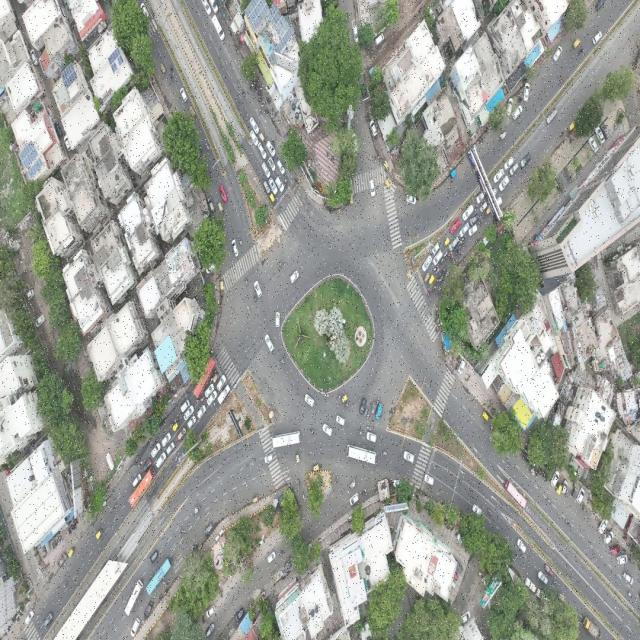3W: (555, 589, 567, 607), (565, 119, 576, 138), (572, 34, 583, 53), (66, 541, 76, 559), (187, 105, 199, 120), (191, 502, 202, 518), (95, 526, 105, 543), (157, 59, 167, 76), (292, 450, 302, 466), (250, 492, 260, 507), (383, 177, 392, 193), (449, 167, 459, 181), (218, 278, 226, 294), (258, 129, 266, 145), (268, 193, 277, 207), (480, 409, 489, 423), (383, 158, 391, 173), (218, 200, 225, 217), (423, 269, 430, 286), (341, 392, 350, 404), (427, 273, 435, 286), (312, 463, 321, 474), (569, 489, 577, 501), (173, 422, 182, 432), (444, 238, 451, 250), (556, 482, 562, 496), (210, 375, 219, 384), (485, 206, 492, 217)
Bus: (192, 349, 219, 403), (144, 554, 174, 598), (127, 472, 157, 508), (501, 477, 530, 513), (270, 427, 305, 455), (346, 440, 379, 469), (123, 579, 146, 618)
Cars: (254, 279, 265, 305), (546, 106, 559, 128), (131, 615, 142, 640), (42, 610, 55, 631), (143, 599, 154, 622), (264, 332, 275, 355), (230, 237, 241, 260), (550, 465, 561, 488), (248, 114, 260, 135), (255, 140, 267, 161), (593, 126, 605, 147), (600, 122, 612, 143), (519, 152, 533, 170), (587, 136, 600, 155), (498, 175, 511, 194), (462, 203, 475, 222), (148, 547, 160, 567), (265, 139, 277, 159), (333, 411, 347, 428), (404, 191, 418, 208), (447, 235, 461, 252), (421, 471, 435, 488), (402, 448, 416, 465), (303, 392, 316, 410), (591, 29, 604, 47), (537, 569, 550, 587), (472, 499, 485, 517), (218, 182, 228, 205), (493, 166, 505, 185), (516, 537, 528, 556), (351, 130, 360, 155), (199, 0, 212, 17), (459, 222, 472, 239), (57, 549, 68, 569), (131, 471, 142, 491), (235, 603, 245, 625), (140, 1, 150, 23), (422, 253, 433, 273), (207, 192, 216, 216), (432, 249, 444, 267), (260, 157, 270, 178), (23, 610, 36, 626), (321, 422, 334, 438), (449, 219, 462, 235), (602, 530, 615, 546), (216, 373, 226, 393), (289, 268, 299, 288), (276, 156, 286, 176), (369, 117, 379, 137), (269, 175, 278, 197), (351, 24, 360, 46), (508, 161, 519, 179), (575, 487, 586, 505), (373, 32, 386, 47), (616, 553, 629, 568), (205, 622, 217, 638), (511, 105, 523, 121), (543, 563, 555, 579), (250, 130, 260, 149), (274, 176, 284, 195), (598, 517, 608, 536), (359, 395, 368, 416), (142, 457, 153, 474), (205, 381, 215, 399), (208, 0, 220, 15), (150, 442, 161, 458), (266, 548, 277, 564), (506, 95, 513, 120), (375, 402, 384, 421), (179, 85, 188, 104), (553, 44, 562, 63), (204, 521, 214, 538), (184, 404, 194, 421), (196, 403, 206, 420), (621, 572, 634, 585), (205, 604, 217, 618), (348, 492, 360, 506), (155, 453, 166, 468), (176, 426, 187, 441), (207, 390, 218, 405), (267, 155, 276, 173), (457, 359, 466, 377), (262, 180, 272, 196), (161, 432, 173, 445), (366, 432, 378, 445), (467, 226, 479, 239), (609, 545, 621, 558), (594, 0, 607, 12), (524, 82, 531, 104), (504, 156, 514, 171), (469, 212, 479, 227), (274, 309, 281, 330), (474, 192, 486, 204), (478, 200, 489, 213), (166, 443, 176, 457), (187, 415, 197, 429), (369, 178, 376, 198), (562, 477, 569, 497), (432, 241, 441, 256), (263, 452, 275, 462)
LCV: (211, 13, 227, 43), (216, 383, 232, 406), (523, 578, 537, 593), (180, 399, 194, 412)
M2W: (61, 578, 69, 592), (278, 354, 286, 368), (277, 546, 285, 560), (322, 391, 332, 400), (552, 577, 559, 589), (301, 492, 307, 505), (545, 496, 552, 507), (371, 153, 377, 165), (381, 449, 389, 458), (361, 489, 369, 498), (278, 259, 284, 271), (578, 46, 585, 56), (512, 549, 519, 559), (309, 427, 316, 437), (179, 529, 186, 539), (296, 477, 302, 488), (334, 474, 339, 487), (112, 503, 119, 512), (558, 129, 565, 138), (365, 422, 372, 431), (33, 549, 39, 559), (37, 558, 43, 568), (169, 71, 174, 83), (158, 592, 164, 602), (184, 390, 191, 398), (431, 189, 439, 196), (477, 218, 484, 226), (458, 478, 465, 486), (189, 545, 196, 553), (138, 459, 144, 468), (179, 412, 185, 421), (474, 203, 480, 212), (565, 518, 571, 527), (627, 591, 633, 600), (487, 507, 493, 516), (227, 510, 236, 516), (67, 526, 72, 536), (246, 305, 251, 315), (271, 137, 276, 147), (154, 438, 161, 445), (165, 579, 172, 586), (357, 429, 363, 437), (283, 182, 288, 191), (560, 76, 565, 85), (436, 361, 441, 370), (337, 393, 342, 402), (173, 417, 179, 424), (200, 395, 206, 402), (272, 111, 278, 118), (622, 535, 628, 542), (344, 402, 350, 409), (51, 541, 55, 551), (254, 294, 258, 304), (239, 237, 243, 247), (209, 169, 213, 179), (170, 63, 174, 73), (242, 88, 246, 98), (435, 267, 440, 275), (195, 398, 201, 404), (270, 106, 274, 115), (276, 118, 282, 124), (478, 137, 482, 146), (435, 277, 439, 286), (434, 327, 438, 336), (377, 398, 381, 407), (518, 98, 523, 105), (453, 245, 458, 252), (545, 476, 550, 483), (626, 543, 631, 550), (621, 547, 626, 554), (206, 142, 209, 153), (378, 153, 381, 164), (364, 407, 367, 418), (295, 177, 299, 185), (444, 250, 448, 258), (439, 275, 443, 283), (432, 285, 436, 293), (490, 405, 494, 413), (492, 407, 496, 415), (57, 537, 60, 547), (169, 422, 174, 428), (245, 277, 248, 287), (235, 50, 240, 56), (259, 84, 264, 90), (517, 91, 522, 97), (461, 235, 466, 241), (455, 250, 460, 256), (433, 265, 438, 271), (533, 461, 536, 471), (367, 411, 370, 421), (209, 378, 213, 385), (213, 369, 217, 376), (234, 44, 238, 51), (261, 101, 265, 108), (440, 258, 444, 265), (54, 539, 57, 548), (59, 535, 62, 544), (71, 524, 74, 533), (74, 521, 77, 530), (259, 107, 262, 116), (285, 177, 288, 186), (446, 270, 449, 279), (438, 287, 441, 296), (543, 471, 546, 480), (582, 503, 585, 512), (629, 554, 632, 563), (257, 98, 262, 103), (443, 257, 448, 262), (75, 517, 78, 525), (255, 90, 261, 94), (266, 97, 270, 103), (462, 241, 466, 247), (458, 240, 462, 246), (447, 252, 453, 256), (442, 267, 446, 273), (425, 292, 431, 296), (437, 318, 440, 326), (249, 85, 252, 92), (267, 108, 270, 115), (481, 136, 484, 143), (522, 453, 525, 460), (524, 455, 527, 462), (526, 458, 529, 465), (251, 81, 255, 86), (438, 272, 442, 277), (264, 109, 267, 115), (268, 99, 271, 105), (449, 257, 455, 260), (253, 85, 257, 89), (255, 87, 259, 91), (427, 288, 431, 292), (540, 470, 543, 475)
Truck: (580, 610, 605, 640)
